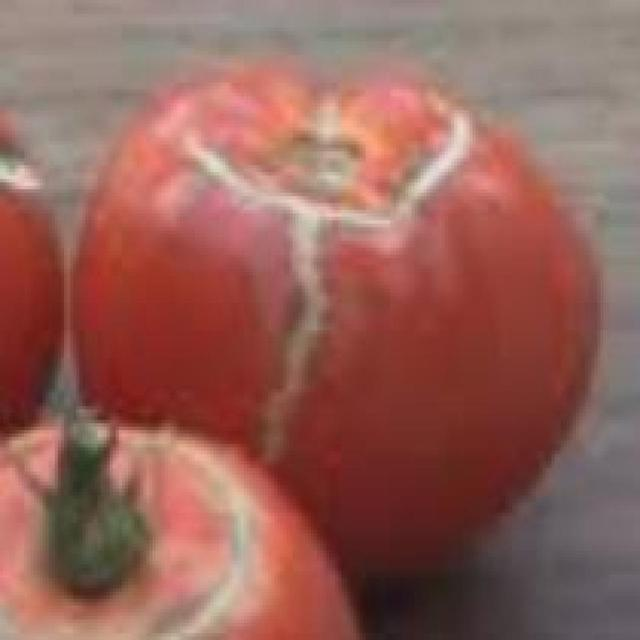Cracking Fruit: (113, 144, 213, 351)
